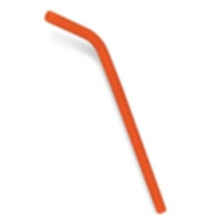drinking_straw: (39, 5, 172, 218)
